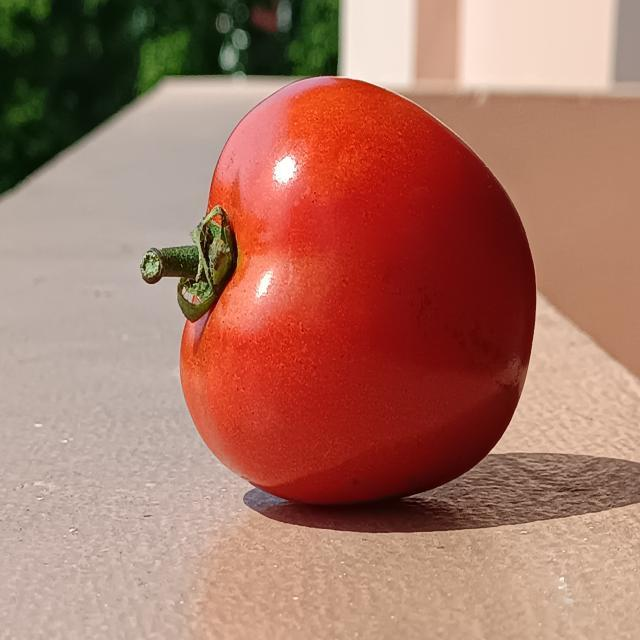Masak: (93, 61, 595, 511)
